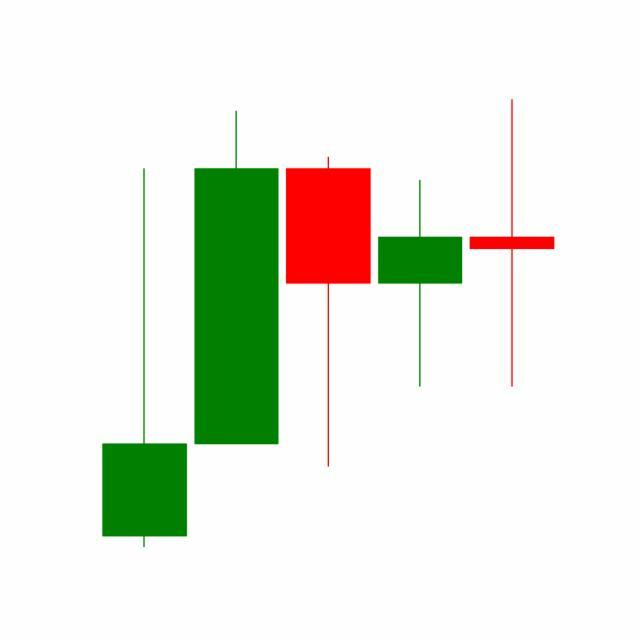Spinning Top: (466, 96, 559, 390)
